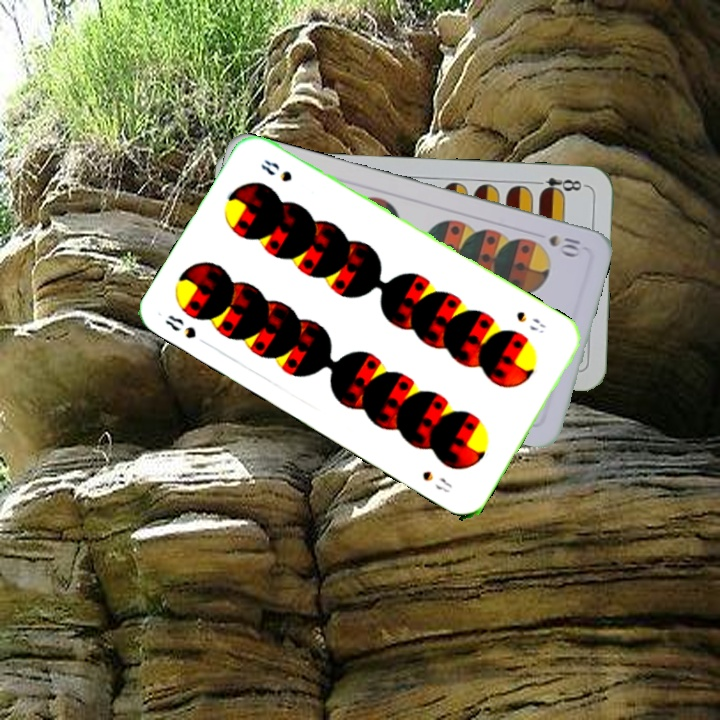E8: (529, 174, 589, 197)
S10: (545, 231, 584, 258)
S8: (161, 310, 212, 349), (512, 307, 549, 336)
